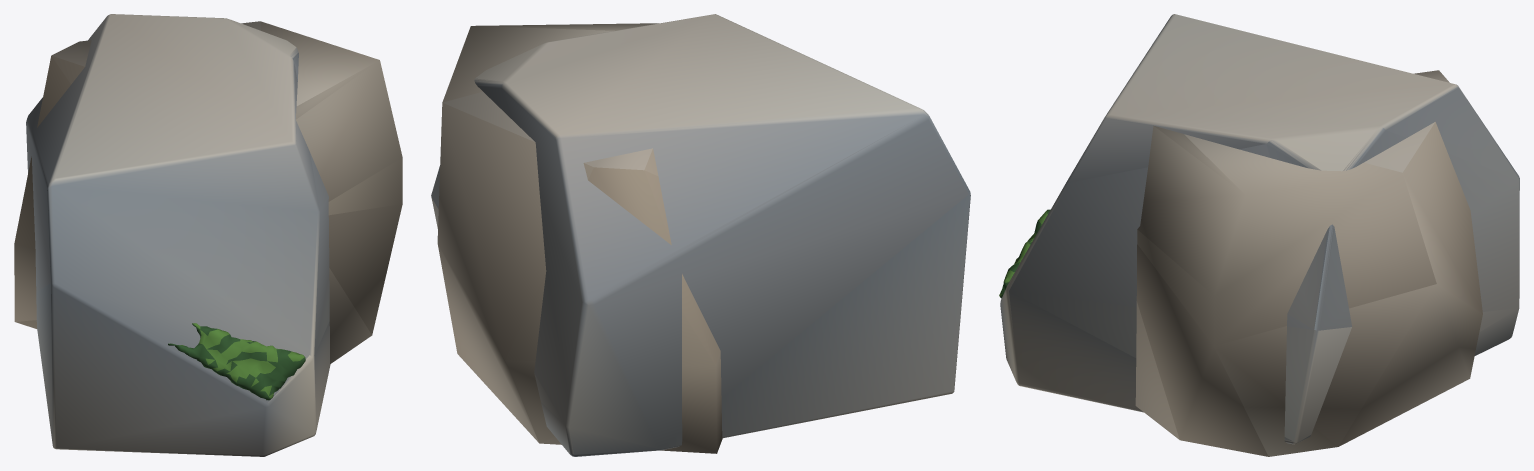
The model's file is shore_rock_c_lod2.glb.
The picture shows the model from 3 angles, left to right: view 1: azimuth 30°, elevation 25°; view 2: azimuth 150°, elevation 25°; view 3: azimuth 270°, elevation 25°; orthographic projection. The views are drawn at different scales.
Parts seen in each view (by area): view 1: shore_rock_c.001; view 2: shore_rock_c.001; view 3: shore_rock_c.001.
Boxes of the visible parts, x1,y1,x2,y2 form: shore_rock_c.001: (14, 14, 402, 456); shore_rock_c.001: (431, 14, 970, 456); shore_rock_c.001: (999, 14, 1519, 456).
Bounding box in the file's own units: 4.78 × 3.31 × 5.09.
